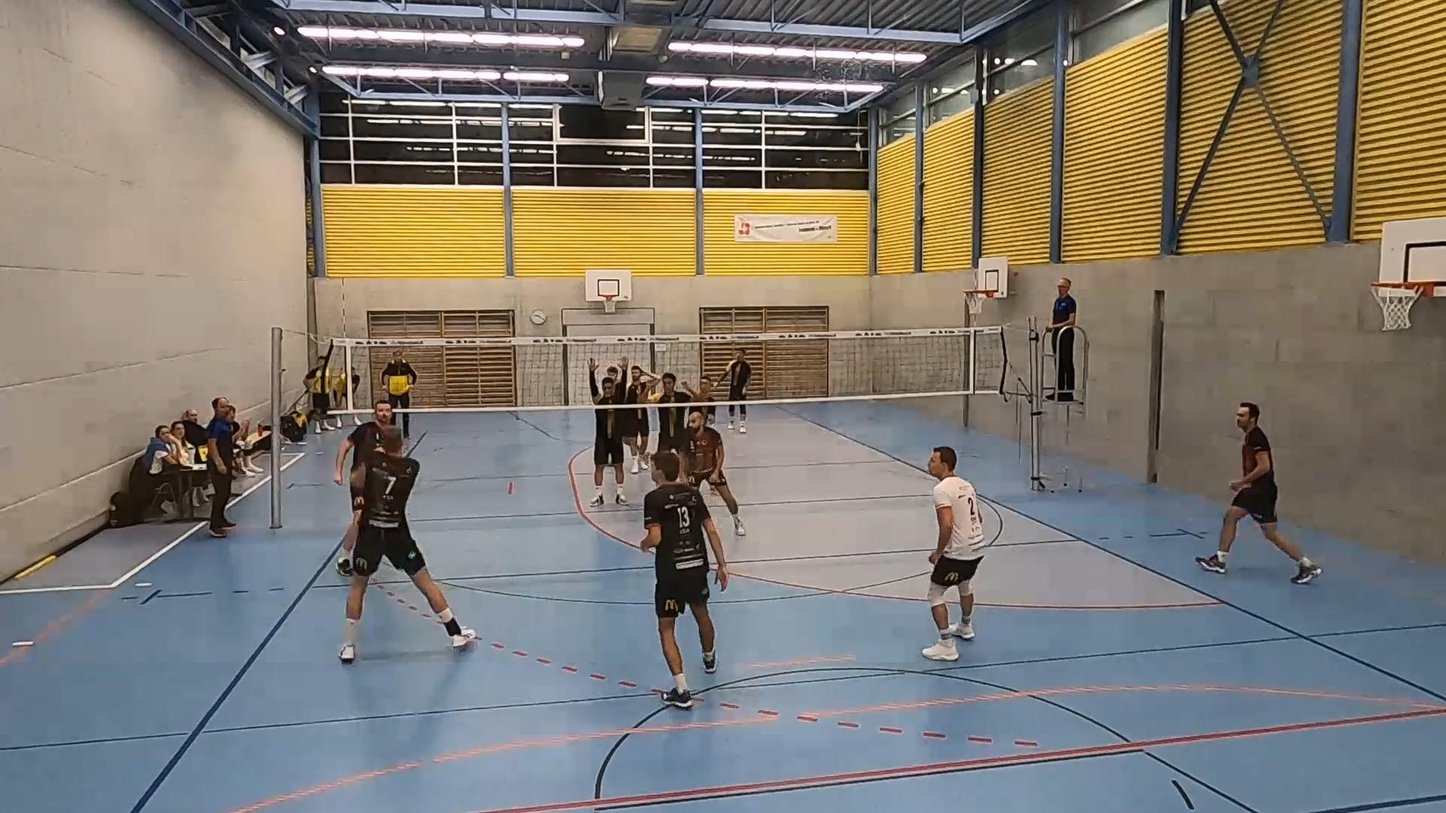Player: (640, 450, 728, 708), (1196, 402, 1321, 583), (923, 446, 985, 661), (334, 400, 394, 576), (686, 410, 746, 536), (590, 408, 627, 506), (624, 364, 657, 473), (650, 373, 690, 455), (680, 376, 716, 425), (726, 348, 751, 401)
Receive: (341, 426, 481, 677)
